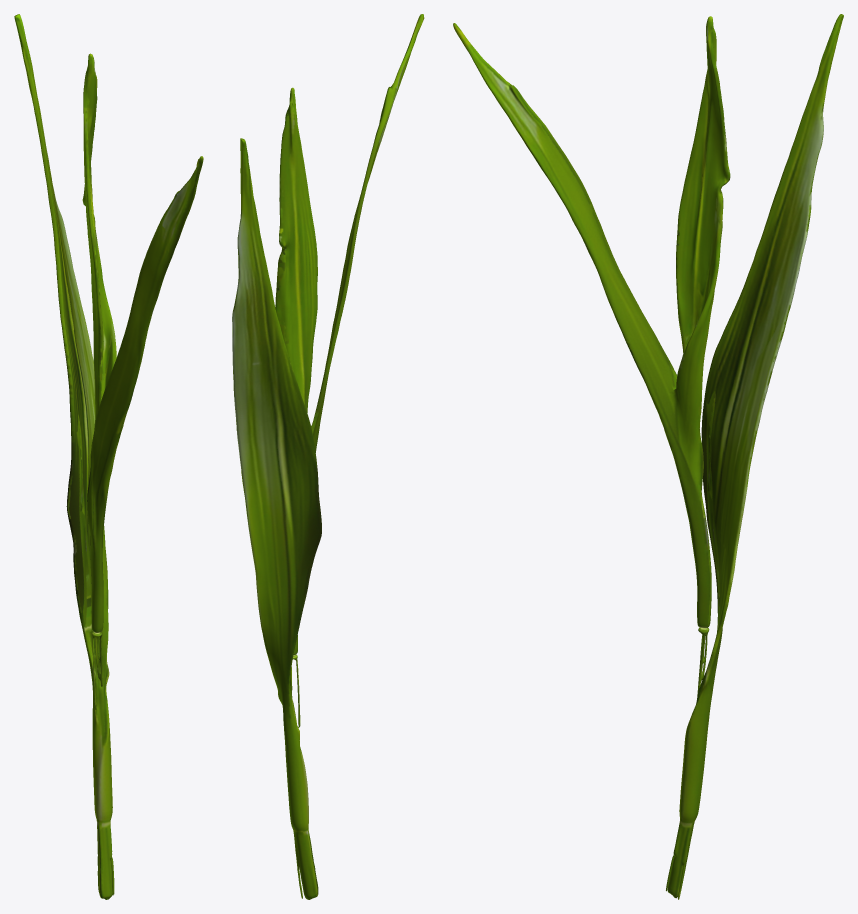
File: grass+blade_20k (1).fbx
3 renders of one model, left to right at view 1: azimuth 30°, elevation 25°; view 2: azimuth 150°, elevation 25°; view 3: azimuth 270°, elevation 25°, orthographic. The views are drawn at different scales.
Parts seen in each view (by area): view 1: tripo_node_8a413576; view 2: tripo_node_8a413576; view 3: tripo_node_8a413576.
Boxes of the visible parts, x1,y1,x2,y2 form: tripo_node_8a413576: (14, 14, 203, 899); tripo_node_8a413576: (232, 14, 424, 899); tripo_node_8a413576: (453, 14, 843, 899).
Size of the model in its own units: 0.0725 by 0.9993 by 0.4017.
1 material, 1 textured.
